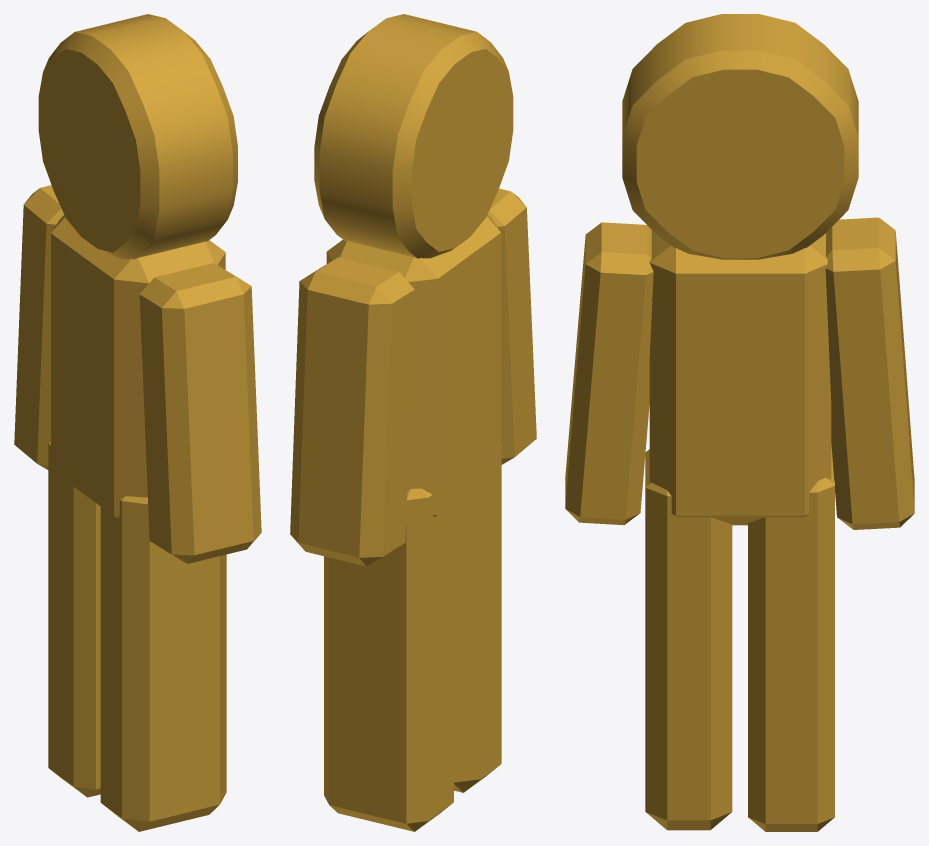
File: Human.fbx
3 views of the same model, side by side, from view 1: azimuth 30°, elevation 25°; view 2: azimuth 150°, elevation 25°; view 3: azimuth 270°, elevation 25° (orthographic). The views are drawn at different scales.
Visible parts, largest first — view 1: head, rightleg, rightarm, body, leftleg, leftarm; view 2: head, leftleg, leftarm, body, rightleg, rightarm; view 3: head, body, leftleg, rightleg, leftarm, rightarm.
Part boxes in pixels (<box>): head: <box>38,14,237,259</box>; rightleg: <box>100,496,226,831</box>; rightarm: <box>139,263,261,563</box>; body: <box>51,215,225,518</box>; leftleg: <box>48,439,100,797</box>; leftarm: <box>14,185,64,469</box>; head: <box>314,14,513,258</box>; leftleg: <box>324,488,453,831</box>; leftarm: <box>290,257,414,566</box>; body: <box>326,214,500,516</box>; rightleg: <box>454,446,501,792</box>; rightarm: <box>487,188,536,464</box>; head: <box>622,14,858,259</box>; body: <box>649,230,831,525</box>; leftleg: <box>748,445,834,831</box>; rightleg: <box>645,449,732,830</box>; leftarm: <box>825,217,914,529</box>; rightarm: <box>565,222,653,525</box>.
Size of the model in its own units: 10.07 by 65.7 by 26.68.
